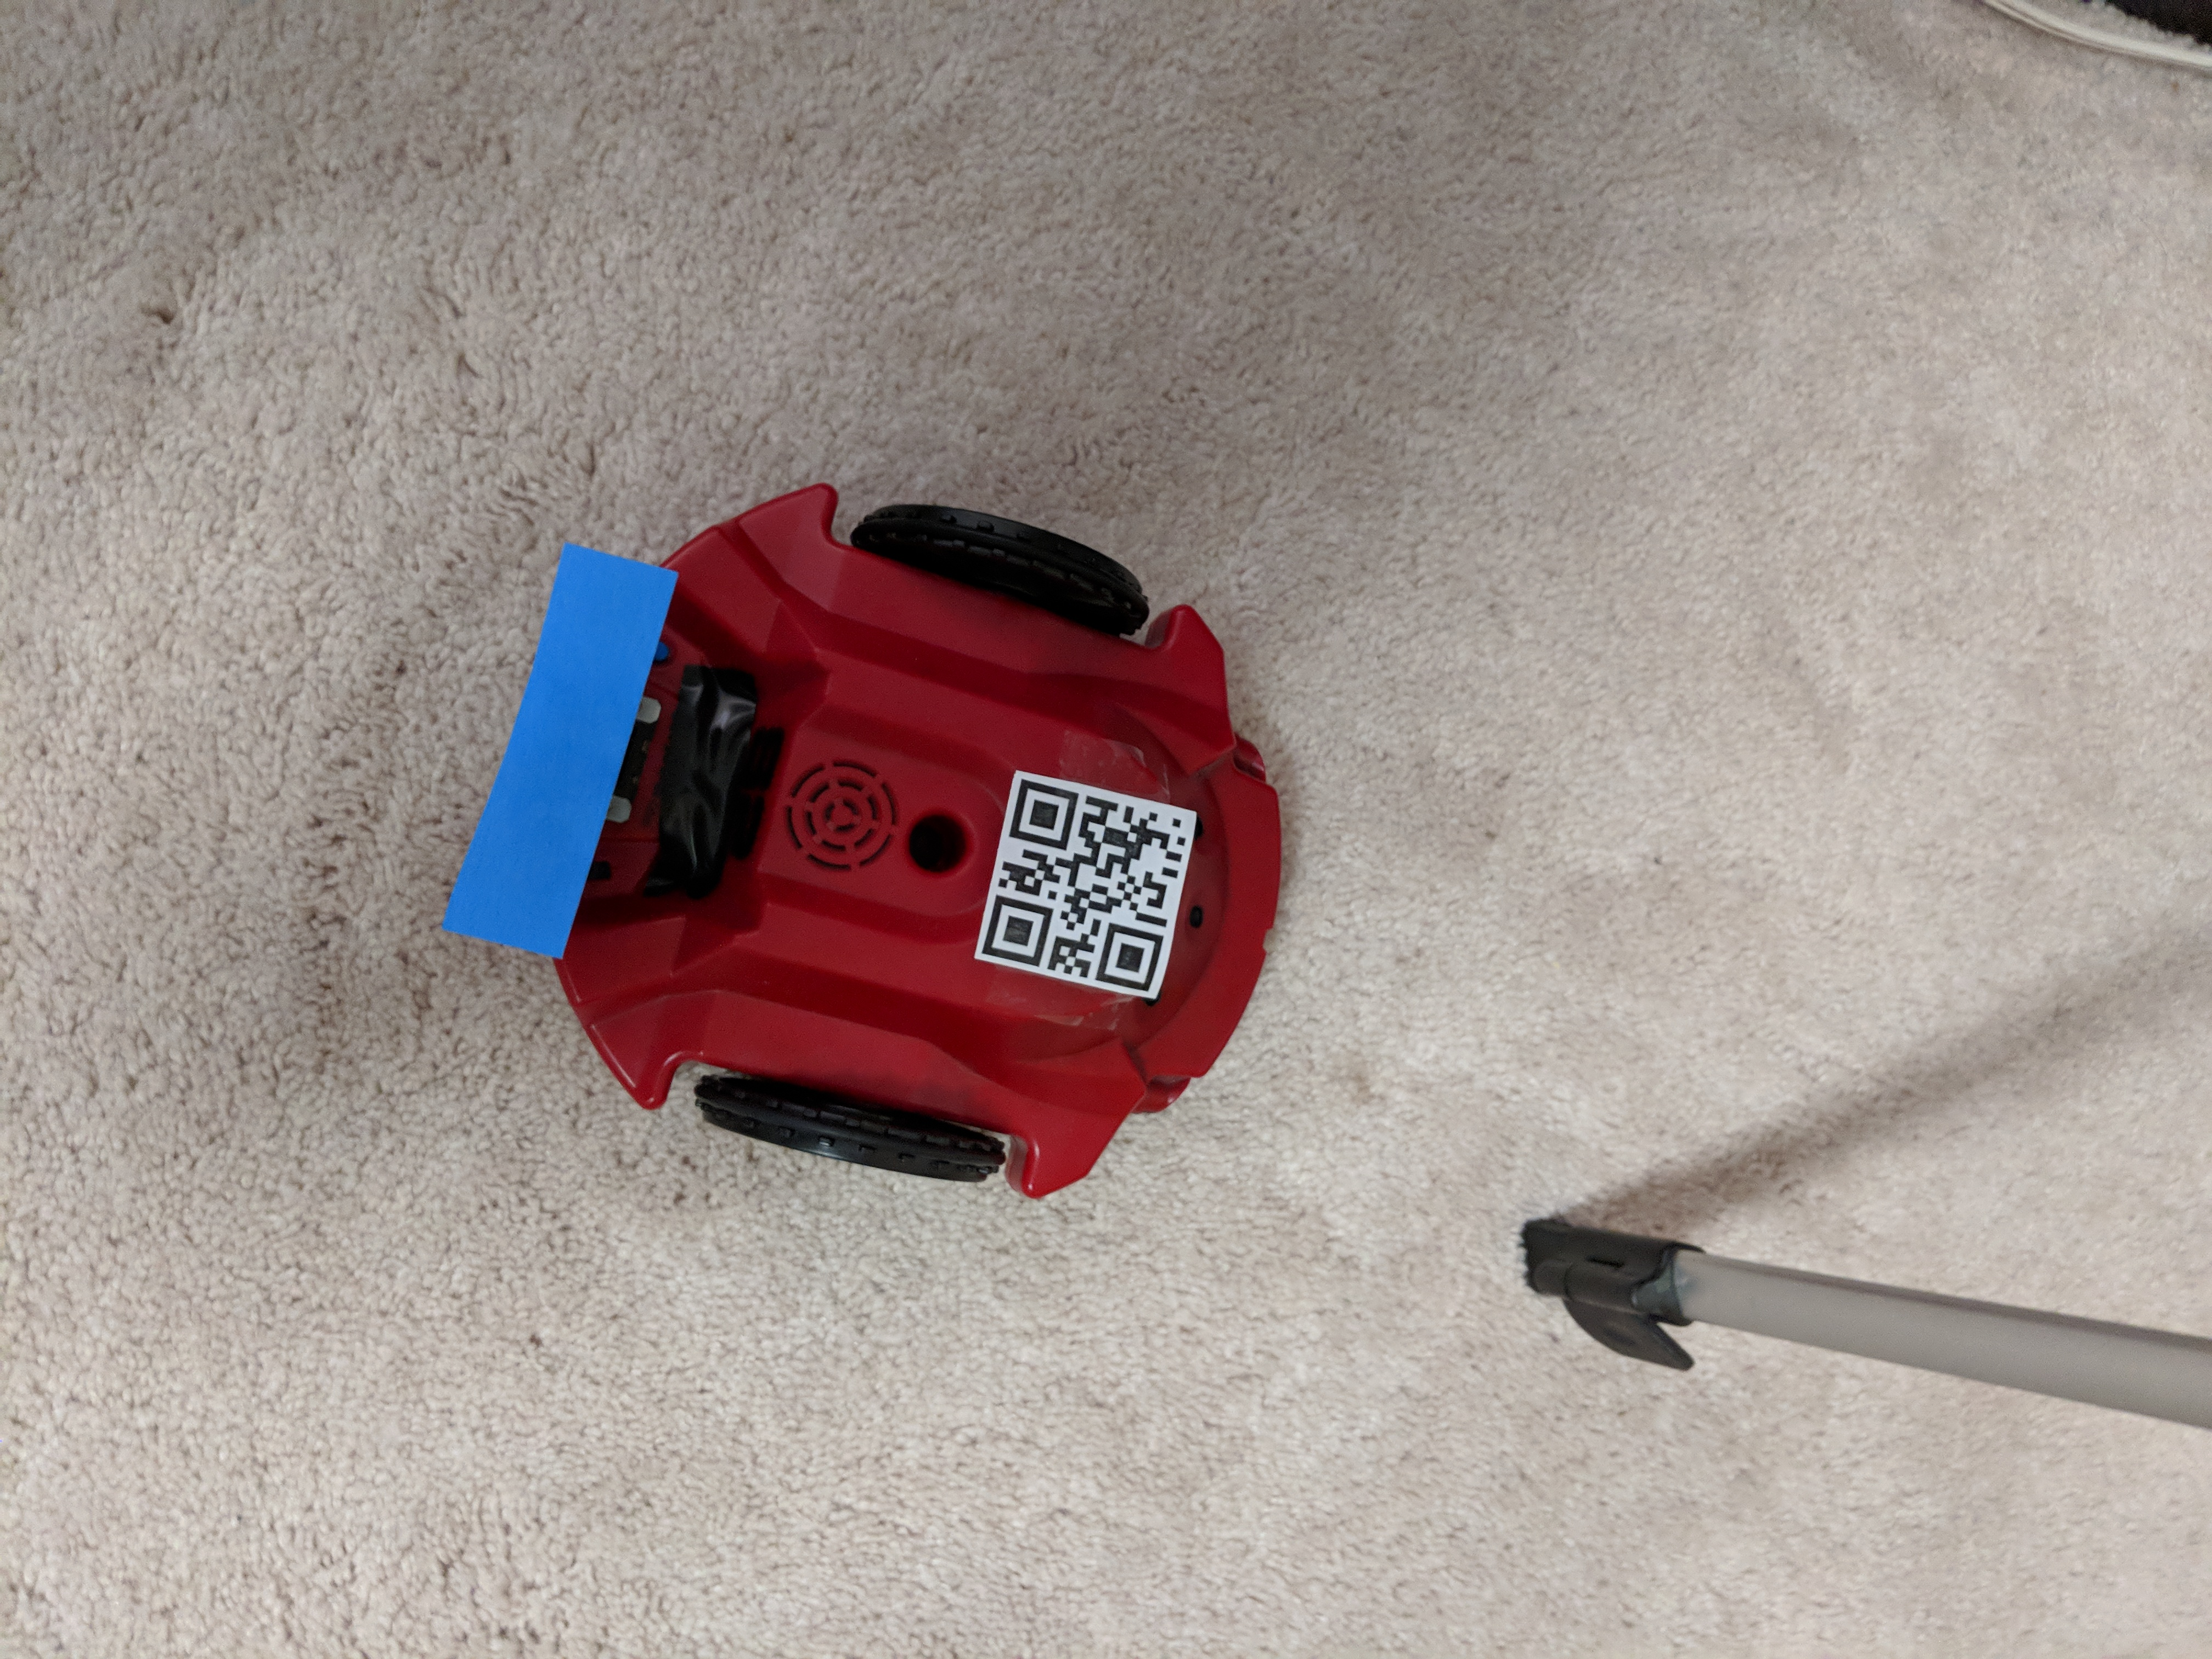chassis: (467, 476, 1291, 1204)
qr: (968, 770, 1202, 1006)
